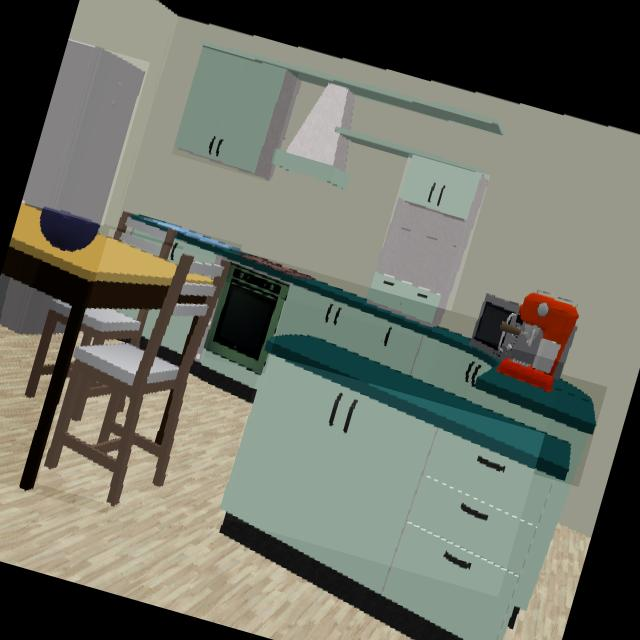cabinet: (221, 356, 534, 597), (275, 285, 547, 431), (367, 157, 487, 327), (174, 46, 287, 179)
chair: (44, 256, 229, 506)
countertop: (265, 335, 596, 481), (222, 246, 472, 351)
fridge: (21, 40, 144, 220)
oven: (205, 263, 288, 370)
sink: (176, 229, 240, 252)
table: (0, 200, 177, 491)
